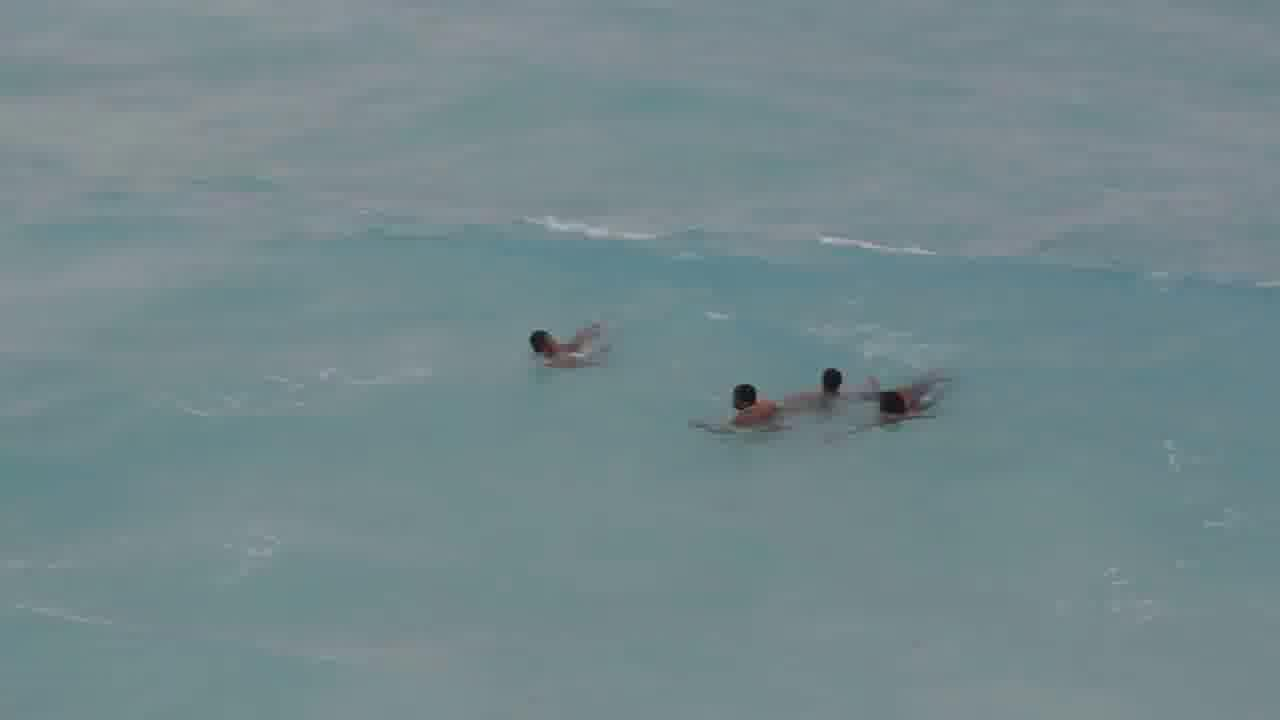human: (514, 314, 624, 374), (697, 379, 789, 444), (792, 356, 874, 406), (871, 371, 940, 430)
